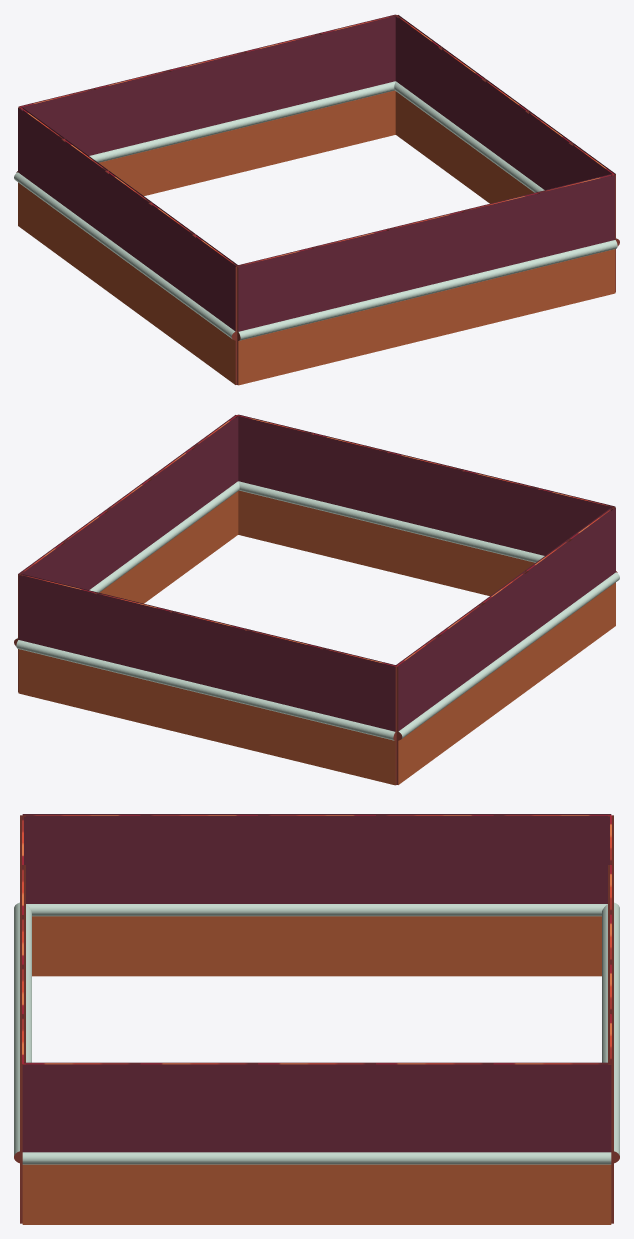
Rendered from G477Proj2Walls.fbx.
3 renders of one model, top to bottom at view 1: azimuth 30°, elevation 25°; view 2: azimuth 150°, elevation 25°; view 3: azimuth 270°, elevation 25°, orthographic. The views are drawn at different scales.
Visible parts, largest first — view 1: Walls; view 2: Walls; view 3: Walls.
Boxes of the visible parts, left/top/right/bottom form: Walls: left=14, top=14, right=619, bottom=385; Walls: left=14, top=414, right=619, bottom=785; Walls: left=14, top=814, right=619, bottom=1224.
Size of the model in its own units: 1031 by 300 by 1031.
